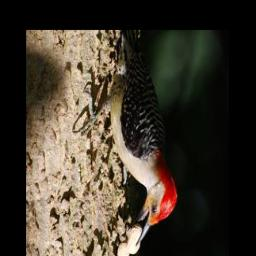Woodpecker: (70, 33, 178, 247)
